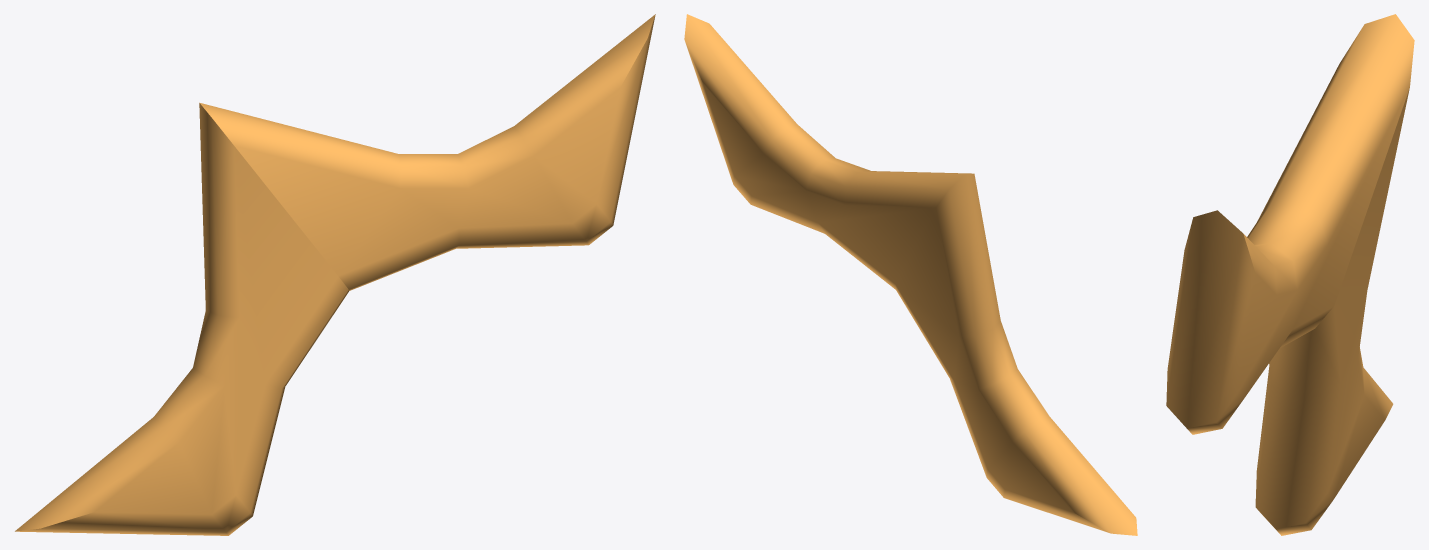
Rendered from Emotion_Surprise_Cartoon.fbx.
The picture shows the model from 3 angles, left to right: view 1: azimuth 30°, elevation 25°; view 2: azimuth 150°, elevation 25°; view 3: azimuth 270°, elevation 25°; orthographic projection. The views are drawn at different scales.
Parts seen in each view (by area): view 1: Surprise_Cartoon; view 2: Surprise_Cartoon; view 3: Surprise_Cartoon.
Part boxes in pixels (left/top/right/bottom): Surprise_Cartoon: left=15, top=14, right=655, bottom=535; Surprise_Cartoon: left=684, top=14, right=1137, bottom=535; Surprise_Cartoon: left=1166, top=14, right=1414, bottom=535.
Size of the model in its own units: 5.36e-11 by 3.89e-11 by 1.49e-11.
